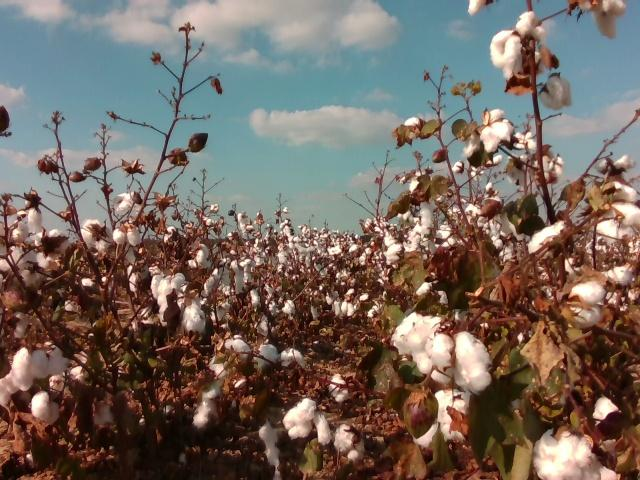cotton_ready: (391, 313, 491, 394), (537, 429, 623, 480), (0, 343, 67, 407), (491, 12, 548, 80), (411, 387, 472, 449), (598, 182, 640, 249), (462, 108, 514, 157), (283, 398, 333, 444), (528, 218, 575, 261), (151, 271, 186, 327), (563, 282, 605, 327), (209, 338, 254, 379), (593, 397, 624, 451), (586, 0, 627, 39), (412, 173, 437, 230), (34, 229, 70, 268), (333, 423, 366, 462), (540, 76, 574, 112), (82, 219, 114, 253), (31, 391, 60, 428), (0, 247, 38, 274), (182, 302, 206, 335), (329, 373, 350, 403), (114, 193, 142, 215), (256, 344, 279, 369), (280, 348, 306, 370), (113, 227, 142, 246), (466, 0, 492, 17)
